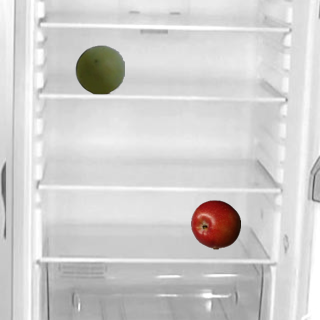Apple Braeburn: (190, 199, 240, 249)
Grape White 4: (74, 44, 124, 94)
